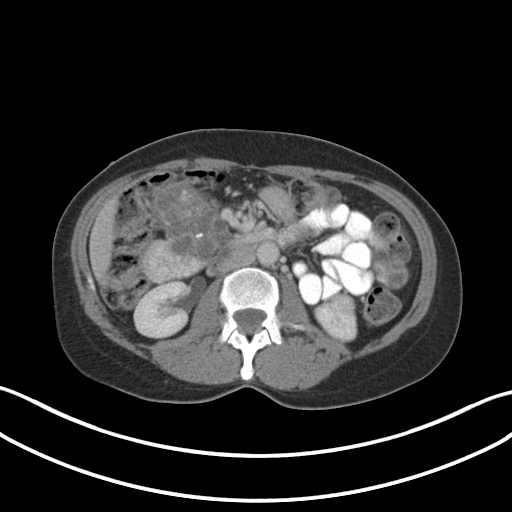Lesion: (328, 295, 357, 314)
